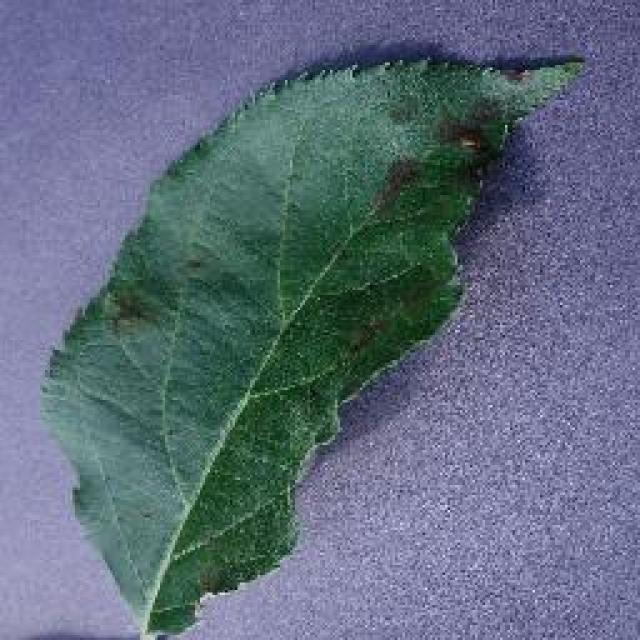apple scab disease: (38, 40, 588, 638)
